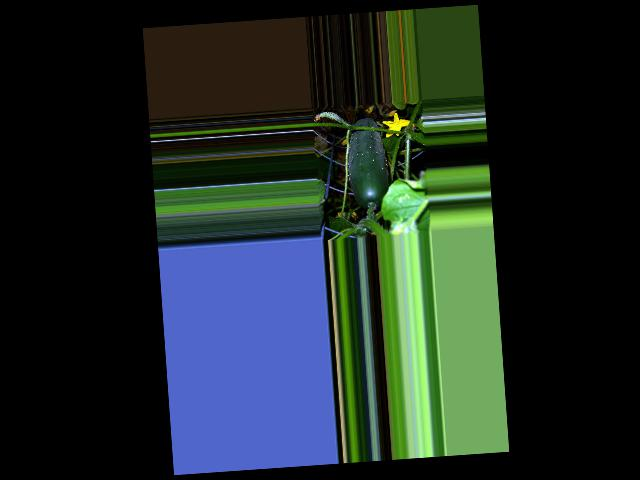cucumber: (343, 117, 390, 210)
